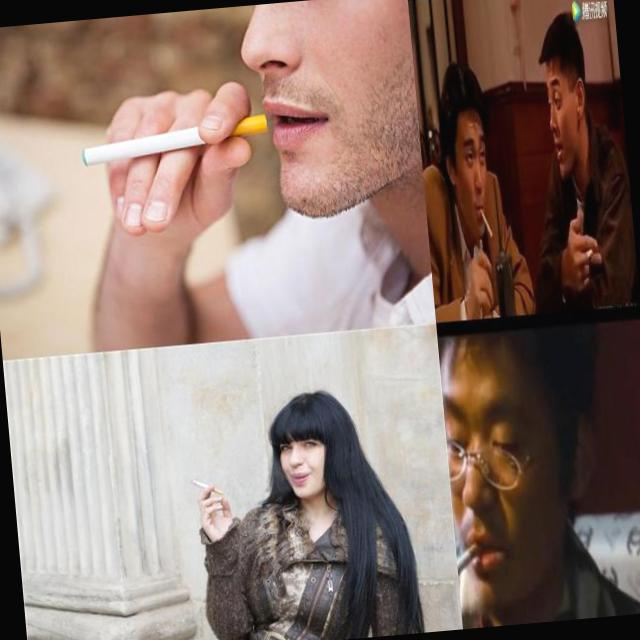smoke: (80, 112, 272, 168), (454, 538, 490, 596), (187, 472, 226, 500), (477, 200, 493, 238)
